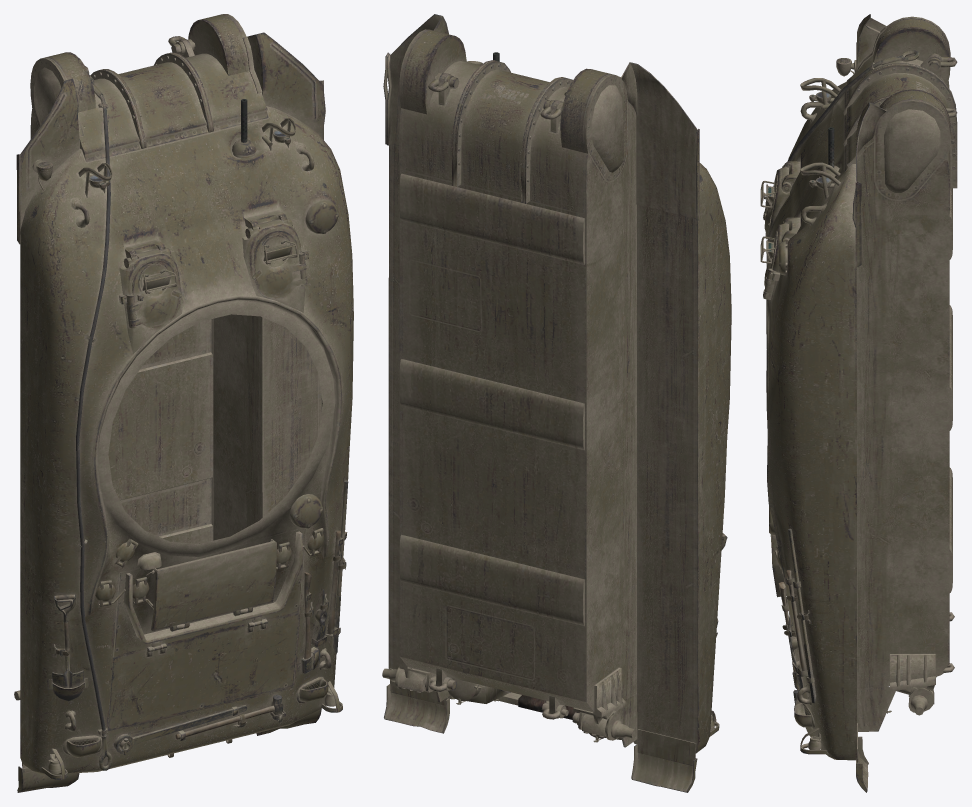
File: Hull.glb
3 renders of one model, left to right at view 1: azimuth 30°, elevation 25°; view 2: azimuth 150°, elevation 25°; view 3: azimuth 270°, elevation 25°, orthographic. The views are drawn at different scales.
Visible parts, largest first — view 1: set_0_group_0; view 2: set_0_group_0; view 3: set_0_group_0.
Boxes of the visible parts, left/top/right/bottom form: set_0_group_0: left=14, top=14, right=353, bottom=792; set_0_group_0: left=382, top=14, right=731, bottom=792; set_0_group_0: left=760, top=14, right=957, bottom=792.
Bounding box in the file's own units: 2.66 × 5.86 × 1.57.
Materials: 1 (1 with a texture image).
